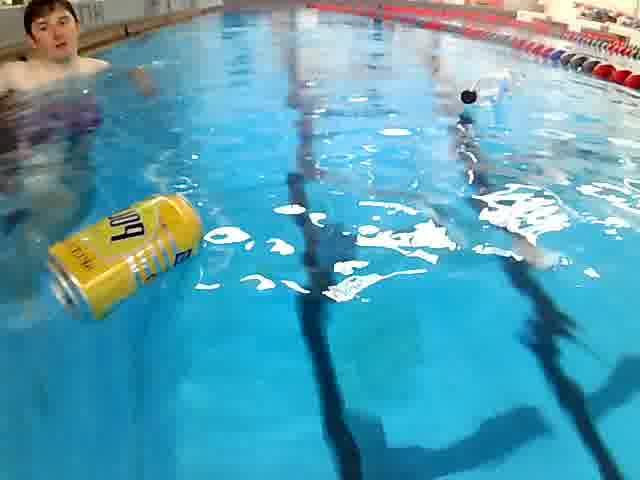Bottle: (454, 65, 529, 111)
Can: (38, 184, 208, 332)
